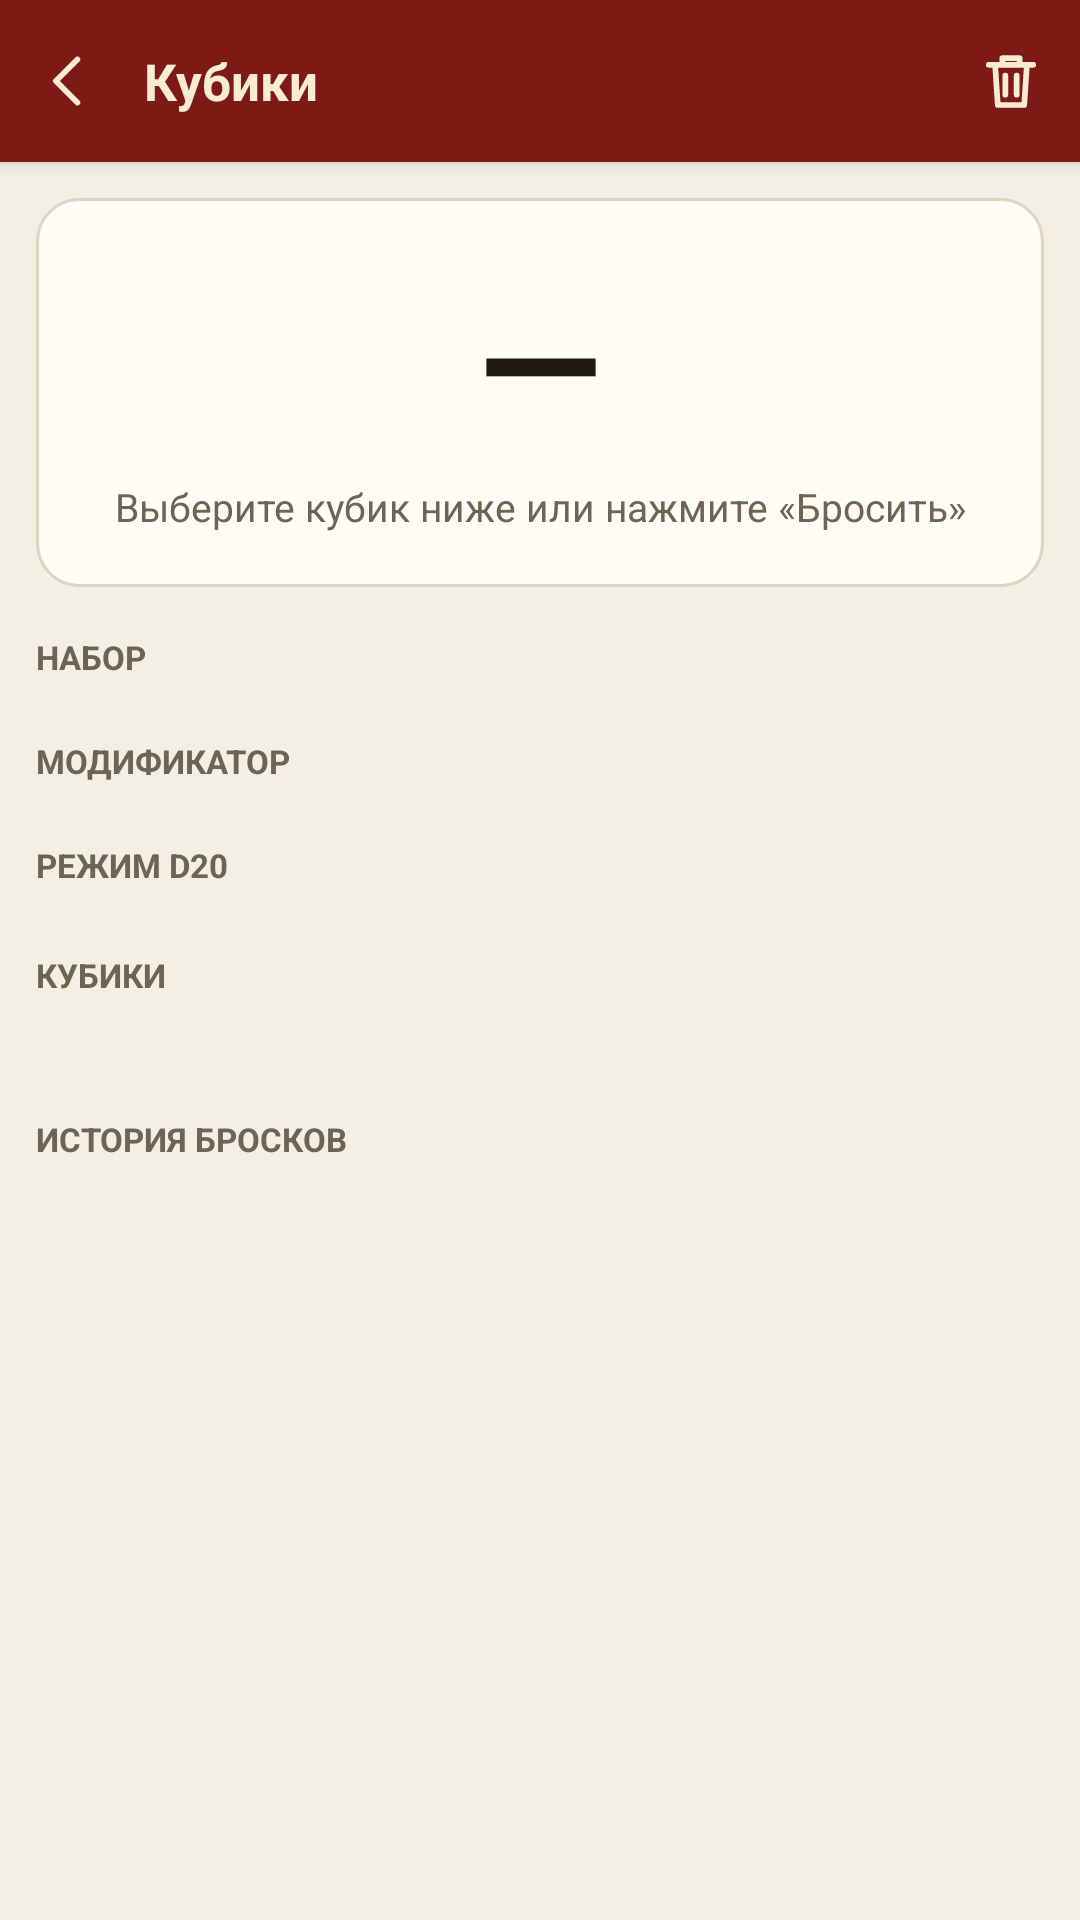

Point at icon controls on the screen. Image size 1080x1920, points as [x,y].
Назад: [66,81]
Очистить историю: [1011,81]
